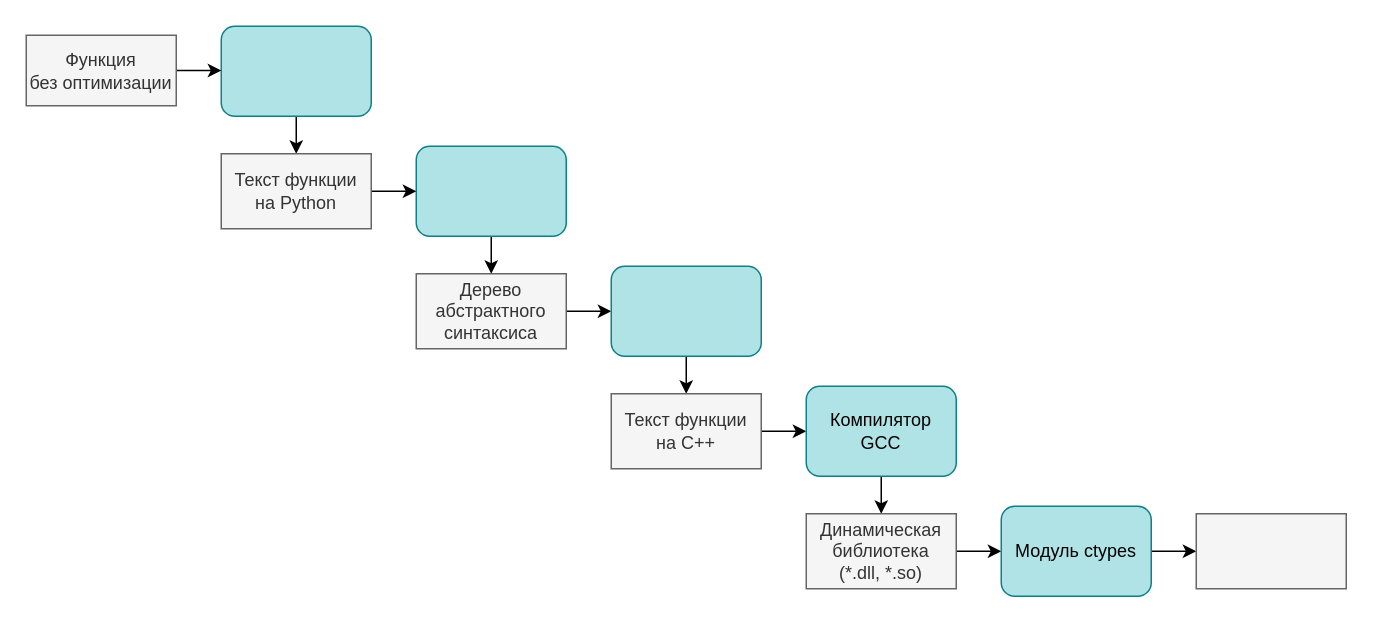
Image size: 1373x623. Some labels were removed from this diagram. The shapes that lost their labels are listed below. From the top down, each one's box as (x1, y1, x2, y2) in pixels, then its label:
(220, 25, 371, 116): @jit аннотация
(415, 145, 566, 236): Модуль ast
(610, 265, 761, 356): Транслятор в C++
(1195, 512, 1346, 589): Загруженная функция
